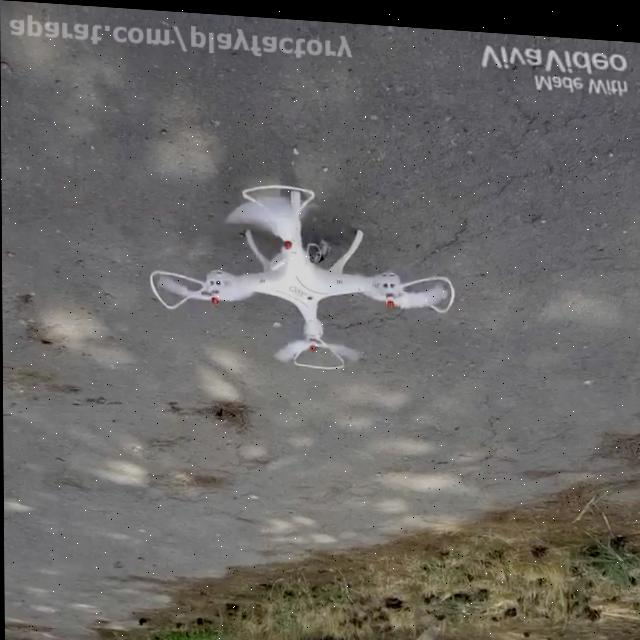drone: (144, 171, 459, 374)
